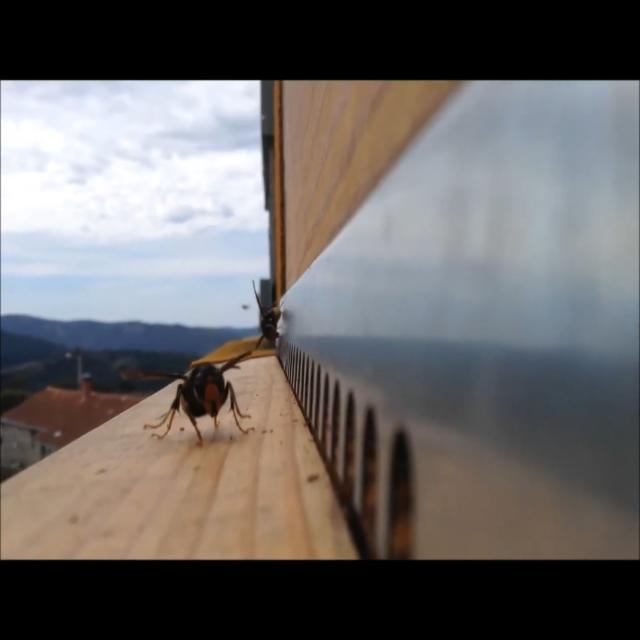Hornets: (115, 343, 259, 454), (249, 274, 284, 356)
